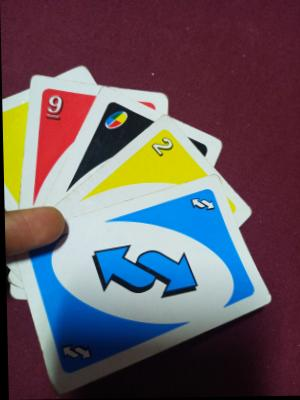blue: (41, 248, 248, 312)
num_2: (149, 137, 176, 161)
num_9: (43, 92, 68, 125)
red: (38, 90, 64, 171)
reverse: (186, 193, 217, 215)
wild: (101, 106, 132, 135)
